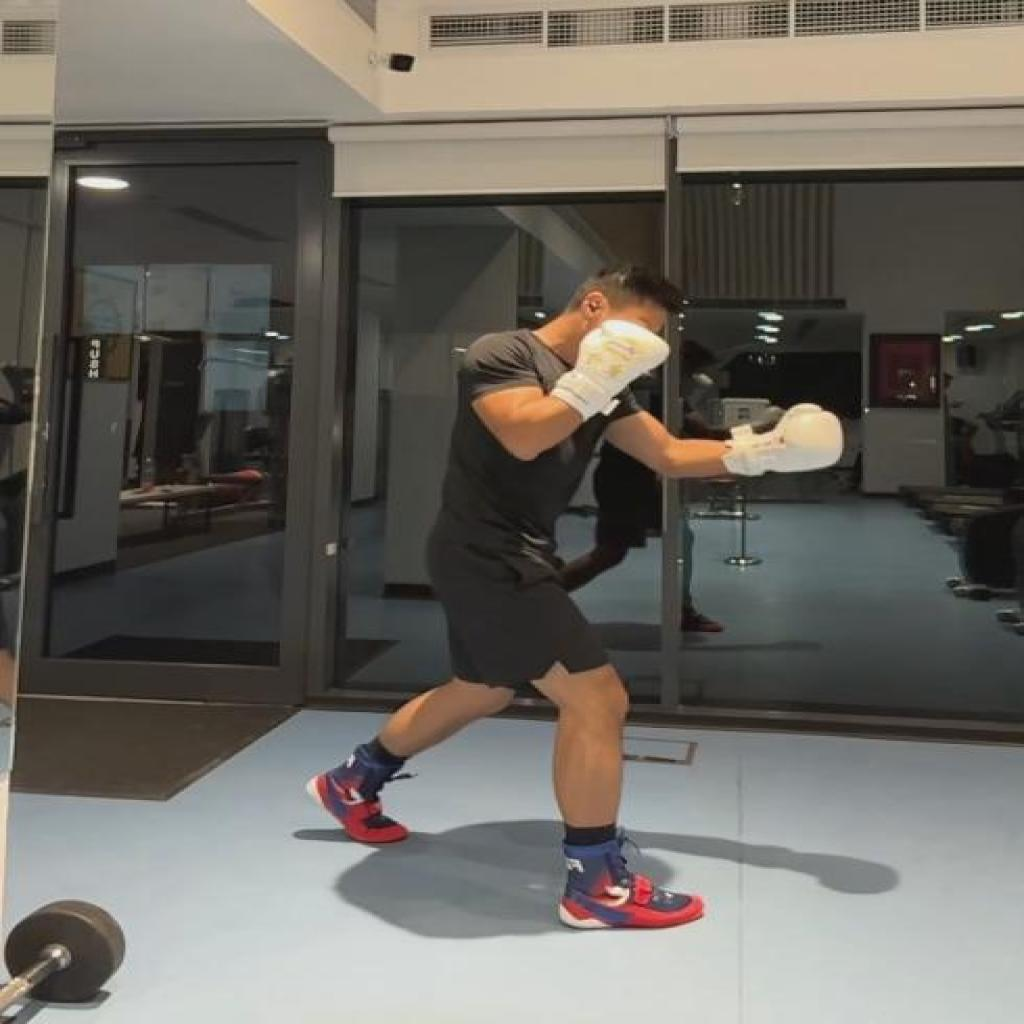uppercut: (301, 259, 844, 936)
